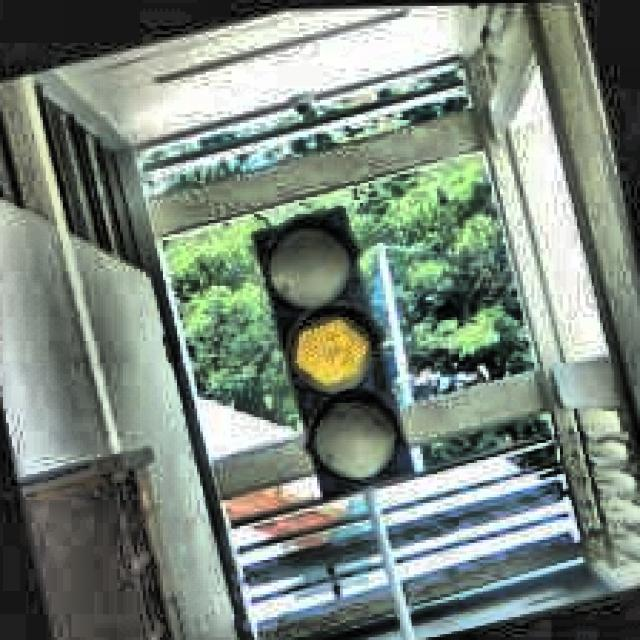yellow: (249, 197, 420, 506)
